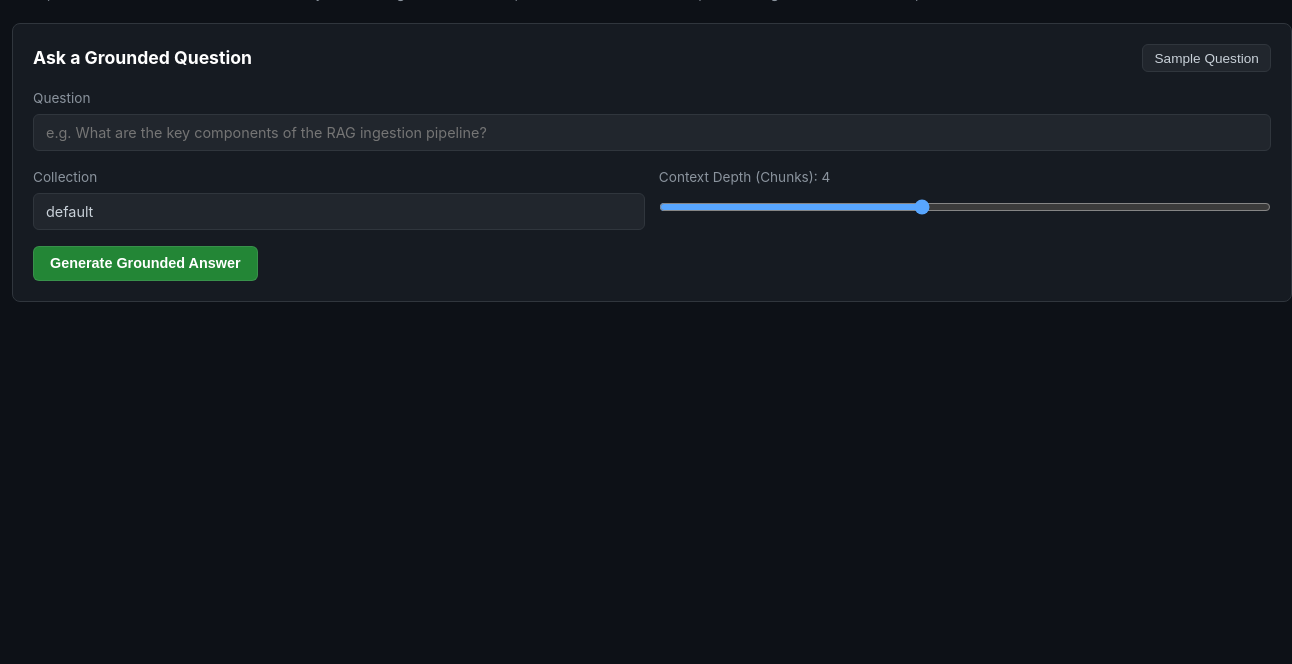
GroundedQA Component › submits question and renders grounded answer with citation badges and faithfulness score
Replace the text in the field labelled "Question" with "What is RAG?" at (652, 133), box 33,114 -> 1271,151
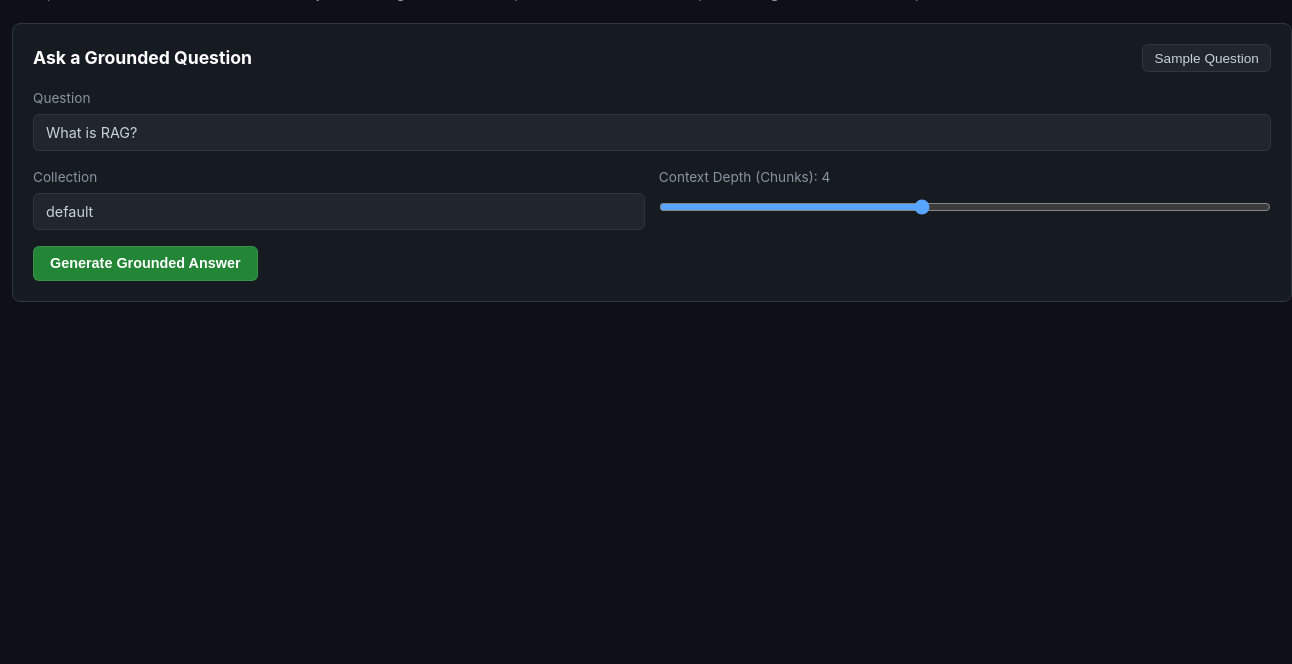
Click the button "Generate Grounded Answer" at (145, 263), box 33,246 -> 258,281
(page scrolled)
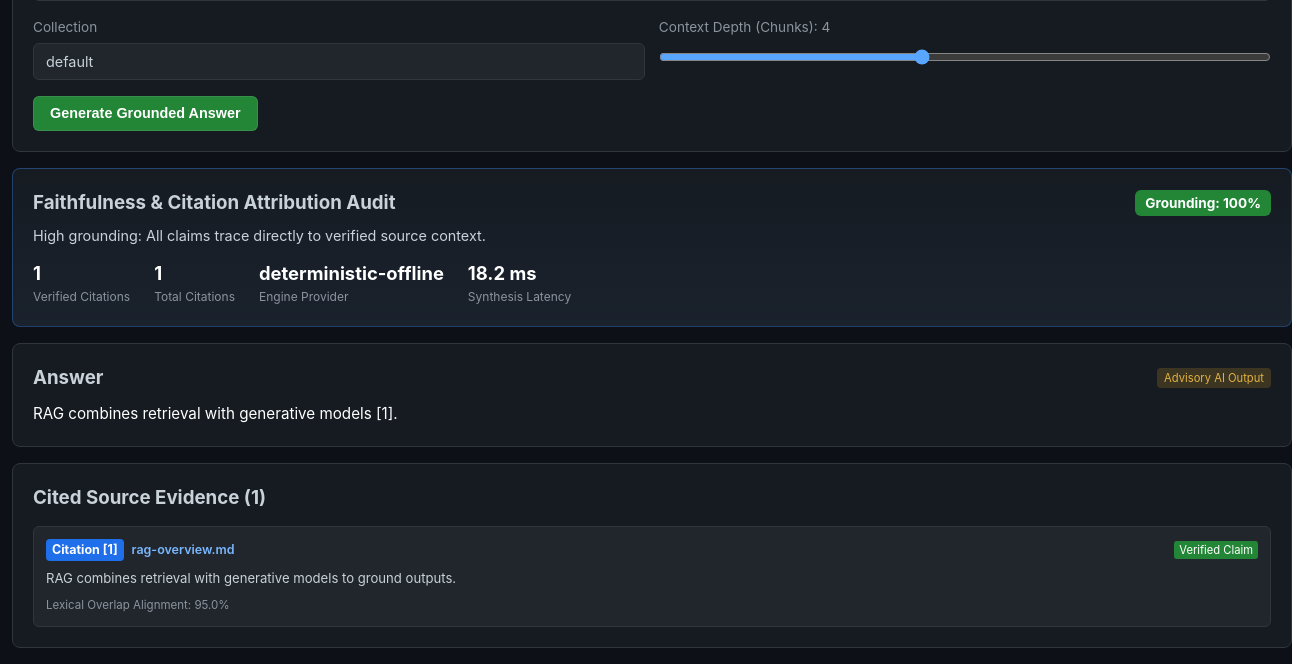
Expected: the text "RAG combines retrieval with generative models [1]." is shown, 33,404 -> 398,423
Expected: the text "Grounding: 100%" is shown, 1135,190 -> 1271,216
Expected: the text "Citation [1]" is shown, 46,539 -> 124,561
